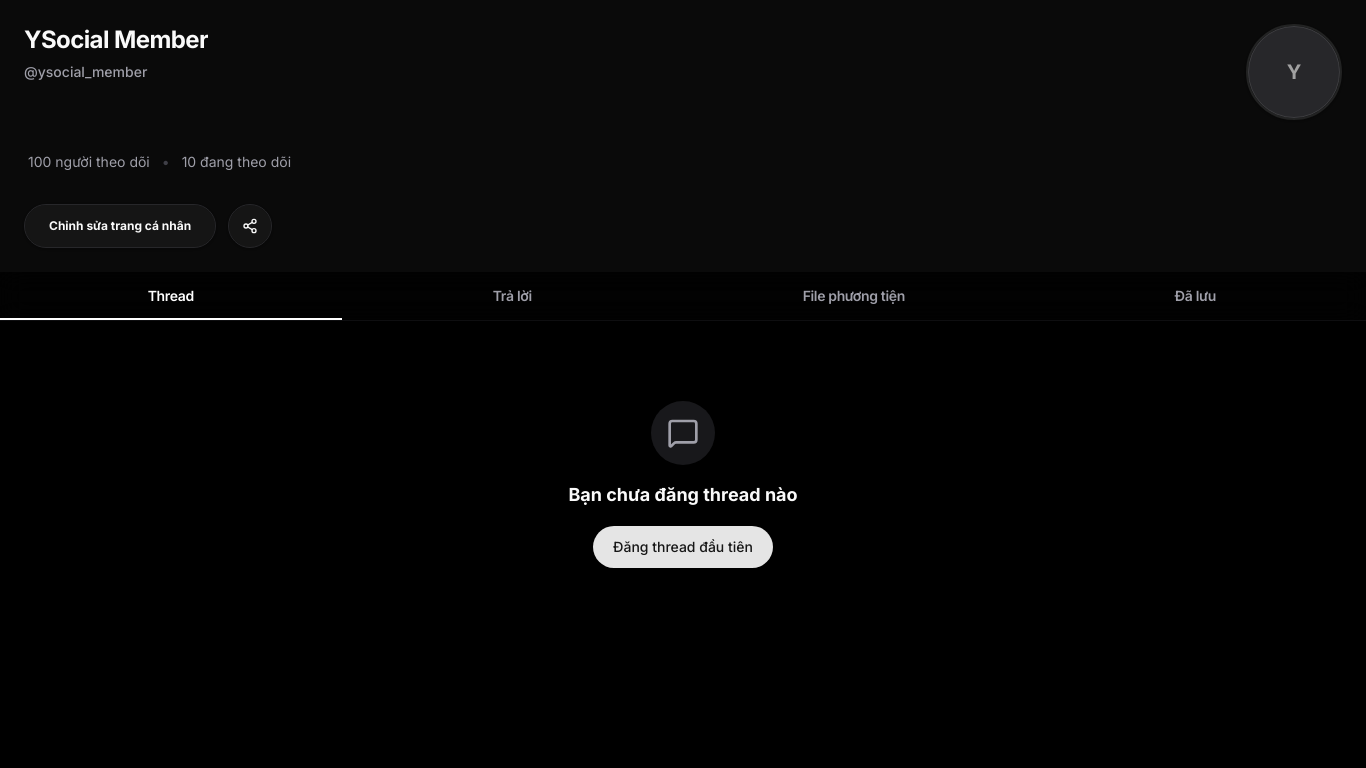
Scenario: ProfileContainer follow & edit › edits the own profile through the service and updates the header from the store
Click the button "Chỉnh sửa trang cá nhân" at coordinates (120, 226), box [24, 204, 216, 248]
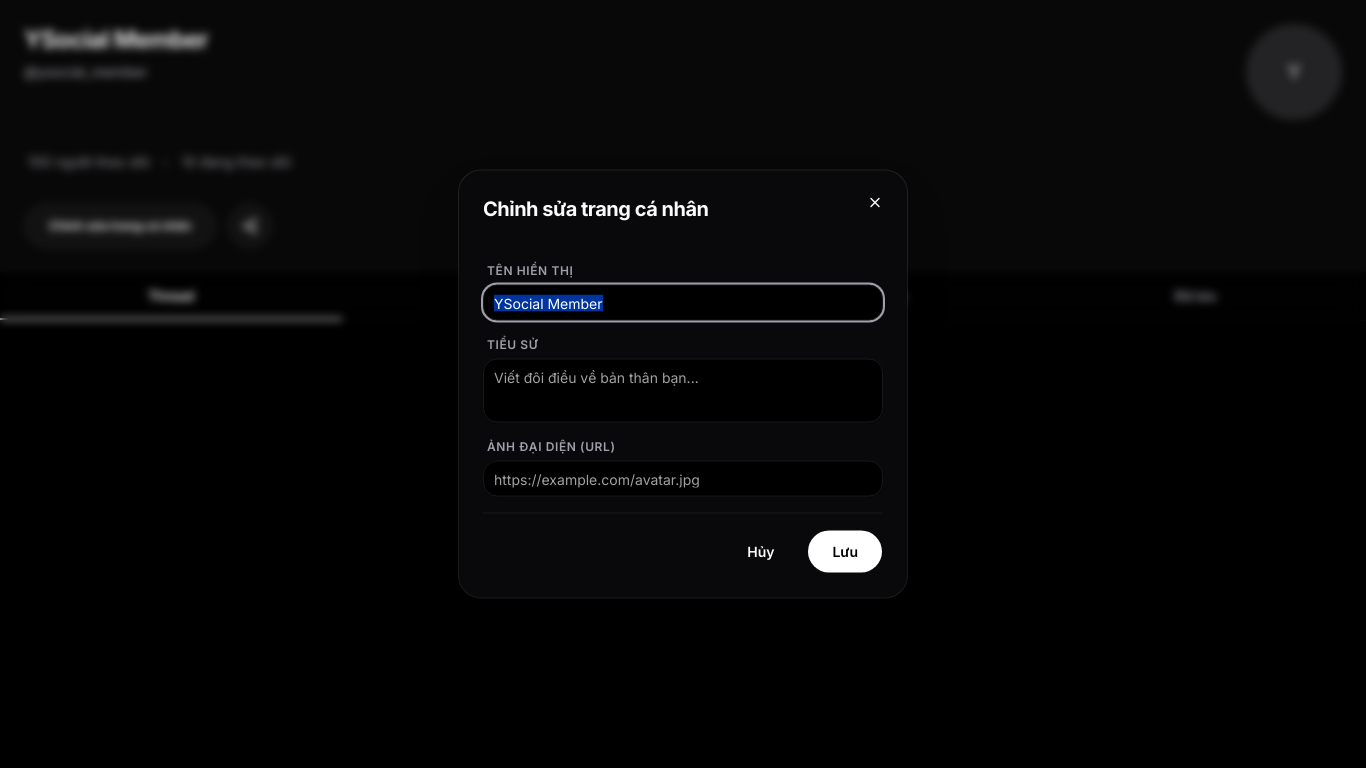
Replace the text in the field labelled "Tên hiển thị" with "Tên Mới" at coordinates (683, 302), box [483, 284, 883, 320]
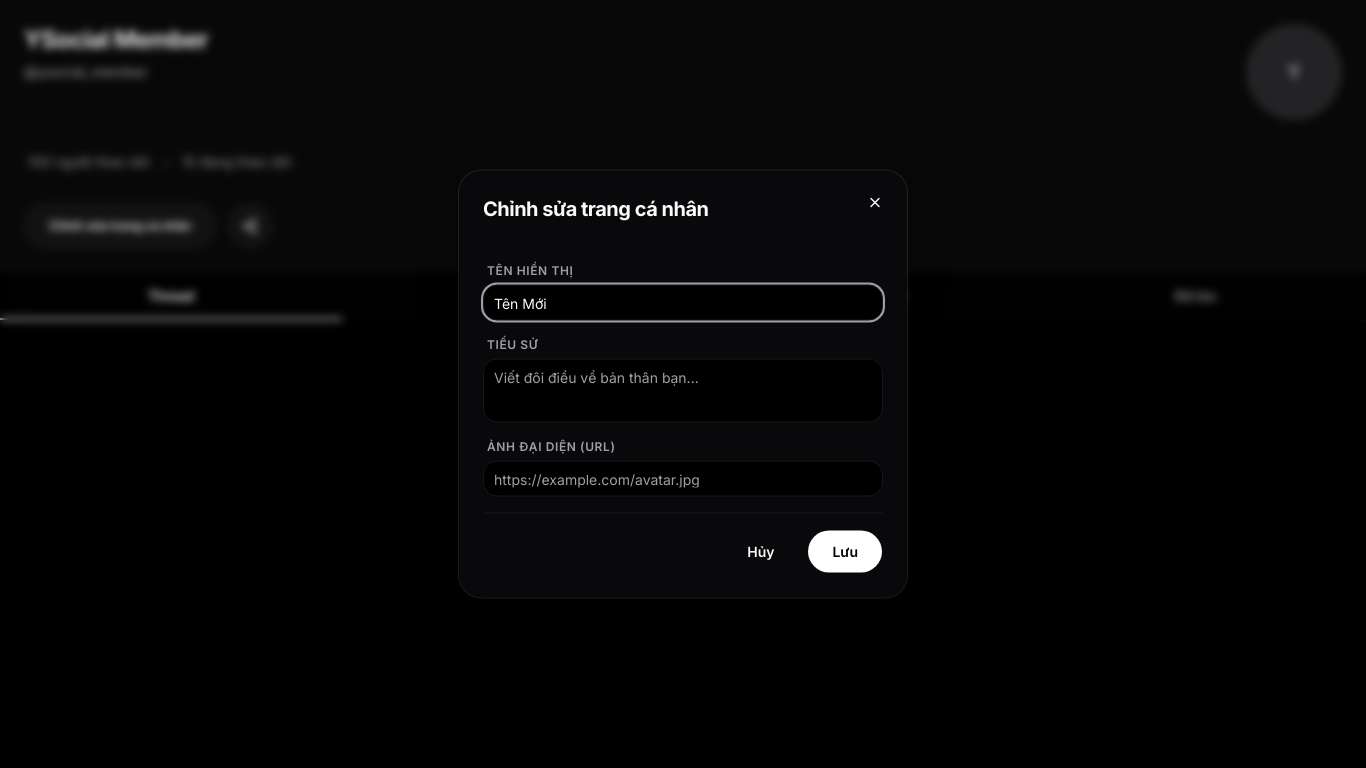
Click the button "Lưu" at coordinates (845, 552), box [808, 530, 883, 574]
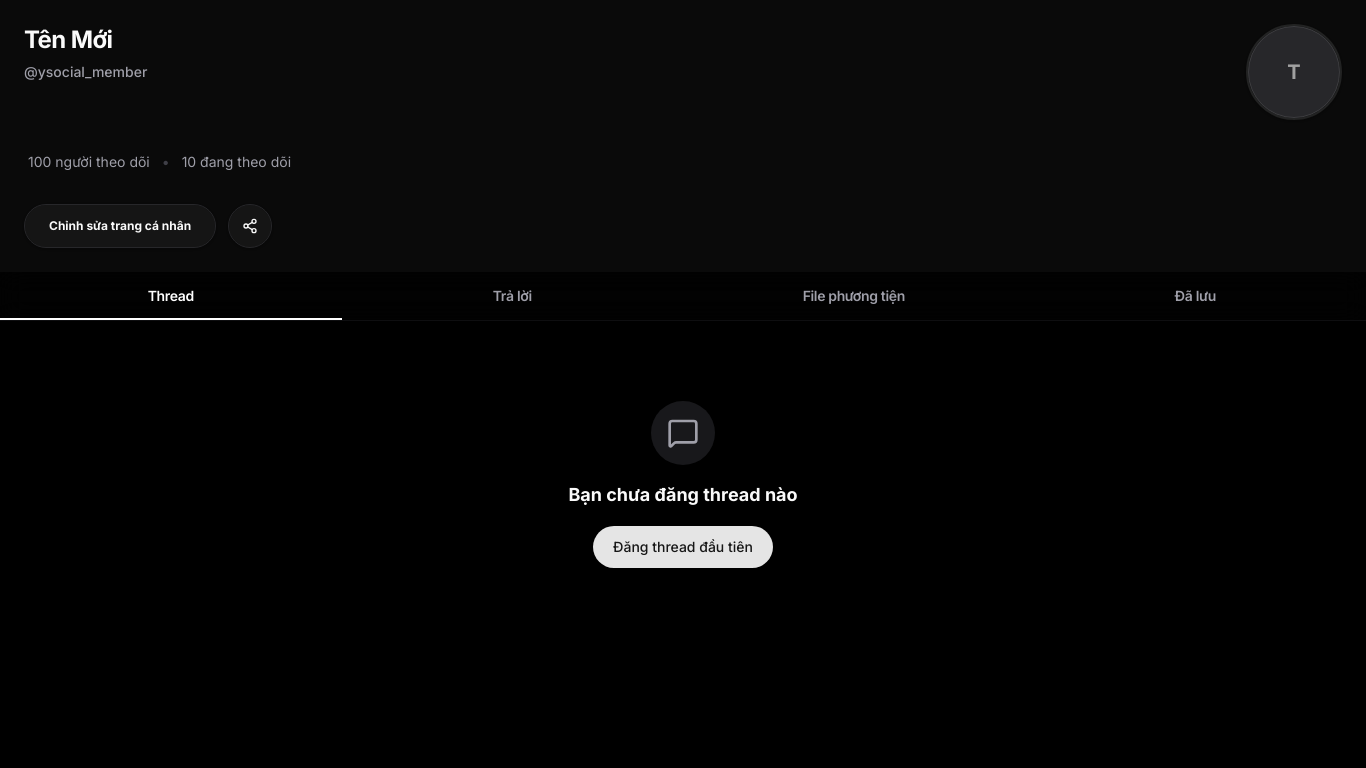
Expected: the heading "Tên Mới" is shown, [24, 24, 112, 56]
